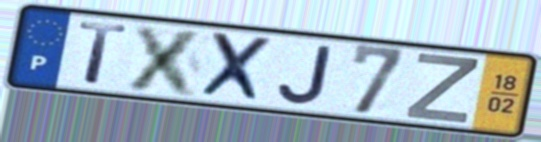7: (349, 41, 407, 119)
J: (275, 44, 335, 108)
T: (76, 20, 132, 87)
X: (121, 22, 210, 100), (196, 30, 276, 105)
Z: (401, 51, 482, 126)
